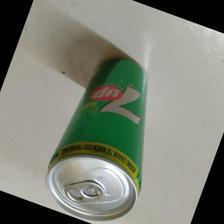7up: (46, 56, 148, 222)
